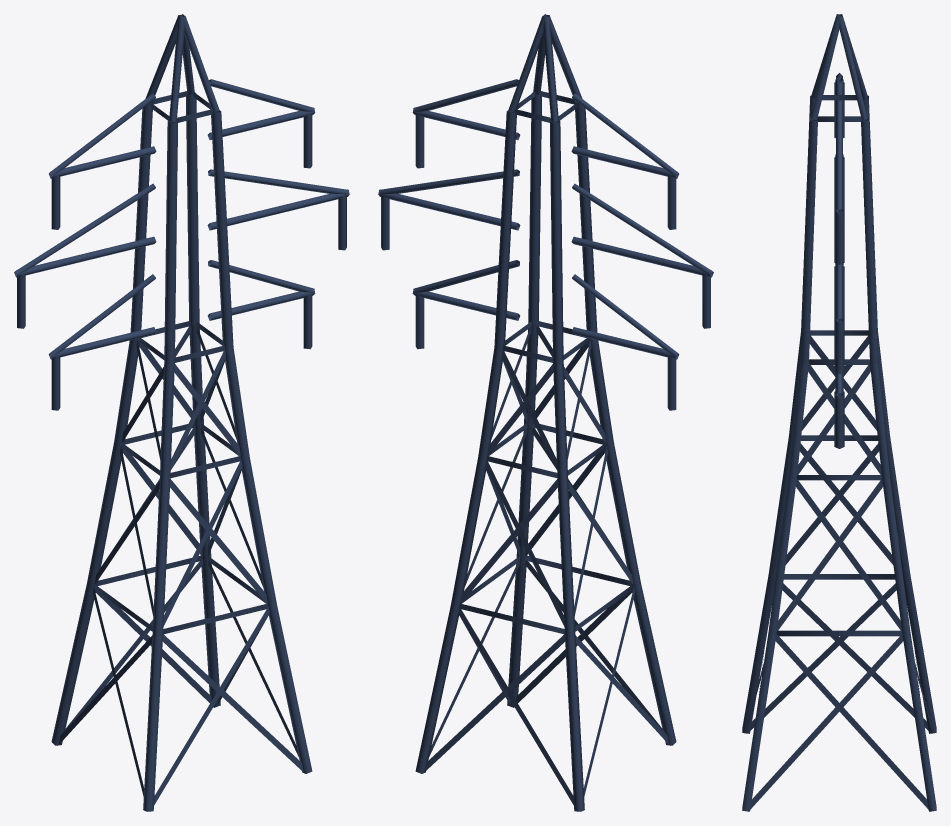
Rendered from torre.glb.
3 views of the same model, side by side, from view 1: azimuth 30°, elevation 25°; view 2: azimuth 150°, elevation 25°; view 3: azimuth 270°, elevation 25° (orthographic).
Parts seen in each view (by area): view 1: torre; view 2: torre; view 3: torre.
Boxes of the visible parts, bbox=[...] form: torre: bbox=[14, 14, 349, 811]; torre: bbox=[378, 14, 713, 811]; torre: bbox=[742, 14, 936, 811].
Bounding box in the file's own units: 19.33 × 41.17 × 9.59.
